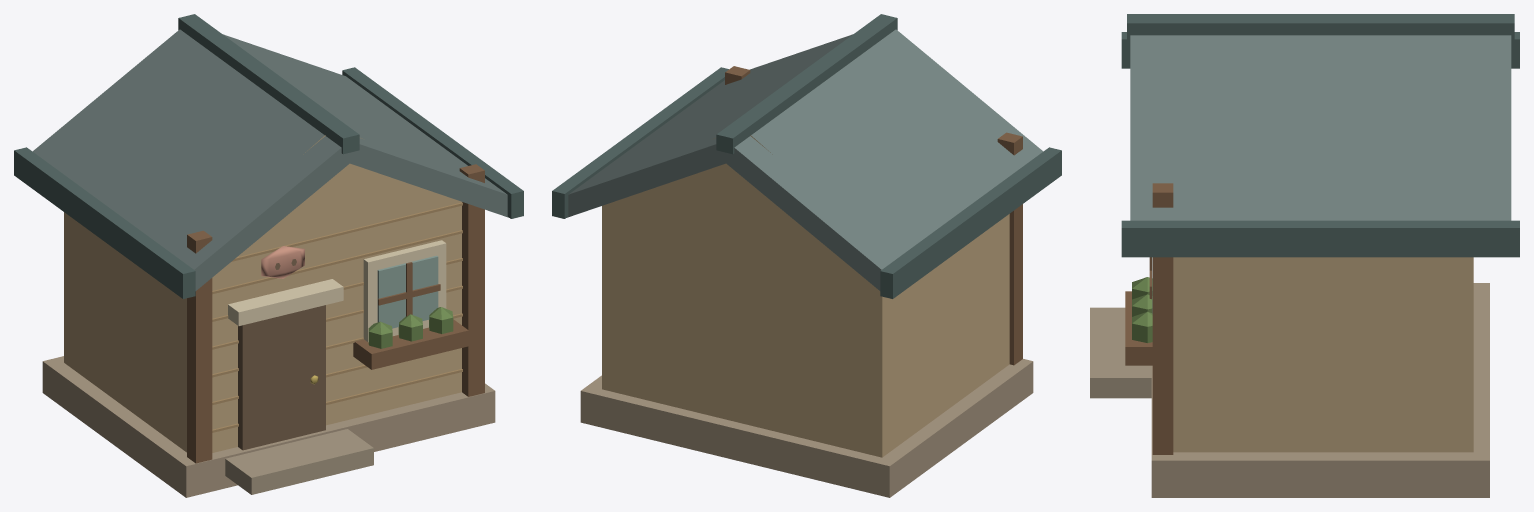
File: cabin.glb
The picture shows the model from 3 angles, left to right: view 1: azimuth 30°, elevation 25°; view 2: azimuth 150°, elevation 25°; view 3: azimuth 270°, elevation 25°; orthographic projection. The views are drawn at different scales.
Visible parts, largest first — view 1: cabin_mesh; view 2: cabin_mesh; view 3: cabin_mesh.
Part boxes in pixels (bbox=[...]): cabin_mesh: bbox=[14, 14, 523, 497]; cabin_mesh: bbox=[552, 14, 1061, 497]; cabin_mesh: bbox=[1090, 14, 1519, 497].
Bounding box in the file's own units: 2.7 × 2.51 × 2.5.
